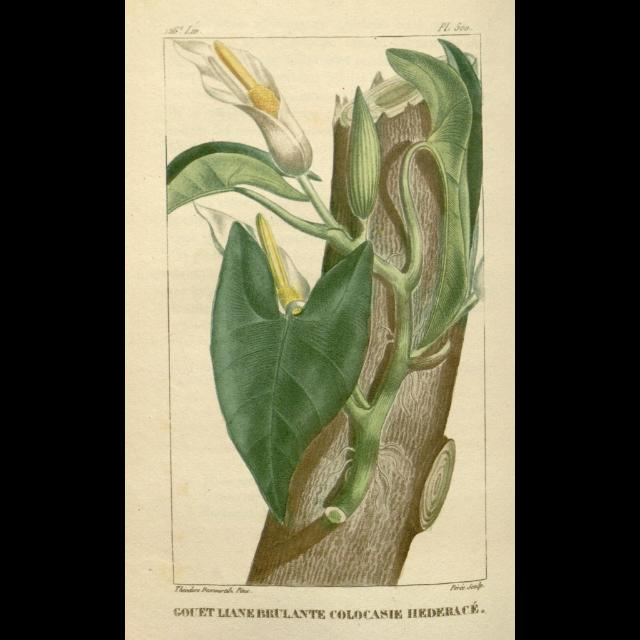Flower: (188, 35, 328, 179), (194, 202, 308, 310)
